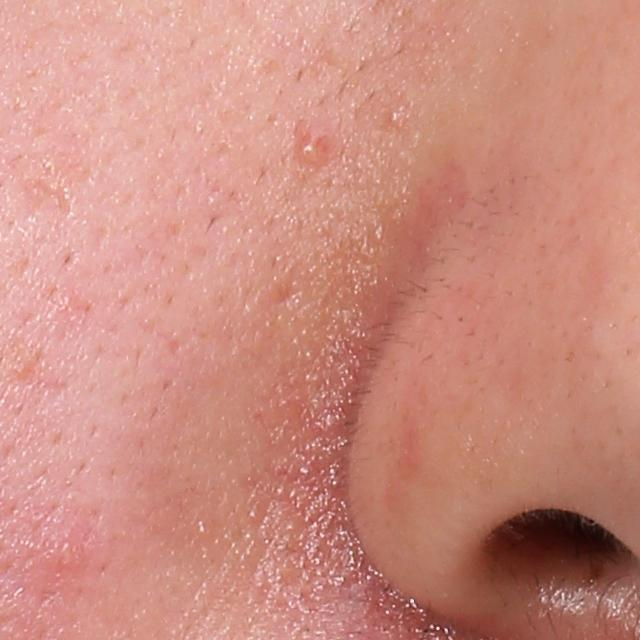pustule: (289, 128, 335, 172)
